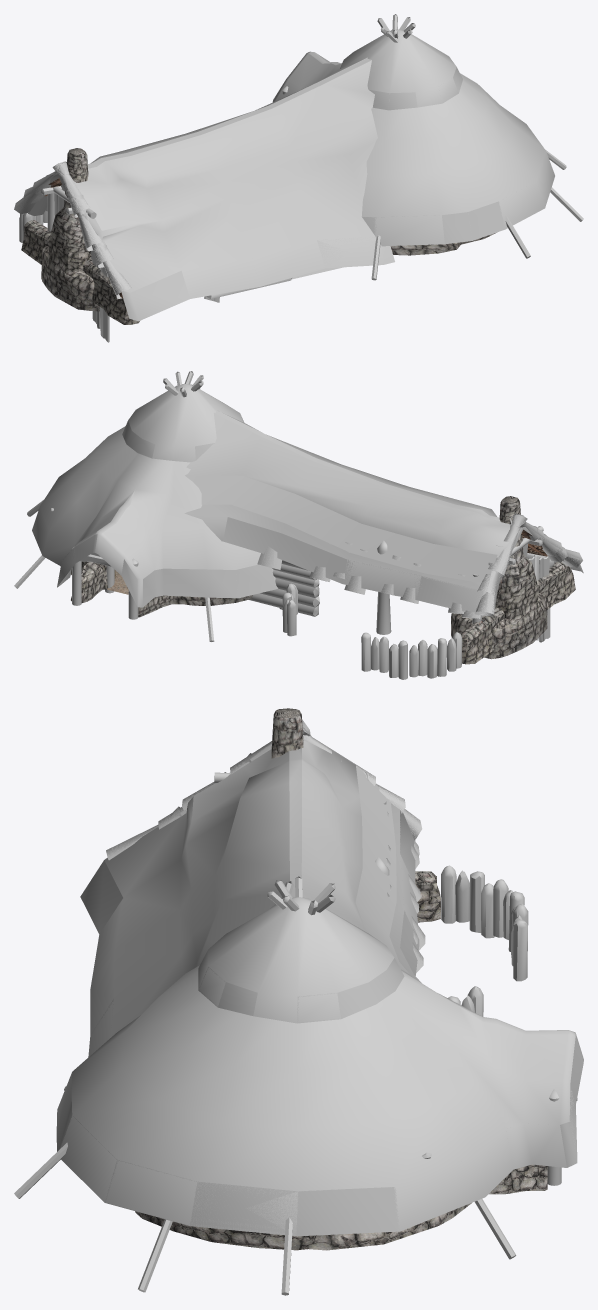
The model's file is Smith_1.fbx.
3 views of the same model, one above another, from view 1: azimuth 30°, elevation 25°; view 2: azimuth 150°, elevation 25°; view 3: azimuth 270°, elevation 25° (orthographic). The views are drawn at different scales.
Parts seen in each view (by area): view 1: Alpha, Stone, Wood; view 2: Alpha, Wood, Stone; view 3: Alpha, Wood, Stone.
Part boxes in pixels (x1,y1,x2,y2): Alpha: [14, 29, 554, 321]; Stone: [21, 148, 496, 324]; Wood: [19, 14, 583, 342]; Alpha: [32, 384, 583, 618]; Wood: [14, 371, 554, 679]; Stone: [71, 496, 575, 664]; Alpha: [56, 720, 583, 1236]; Wood: [14, 772, 561, 1295]; Stone: [135, 708, 547, 1250].
Bounding box in the file's own units: 3339 × 1315 × 2061.
